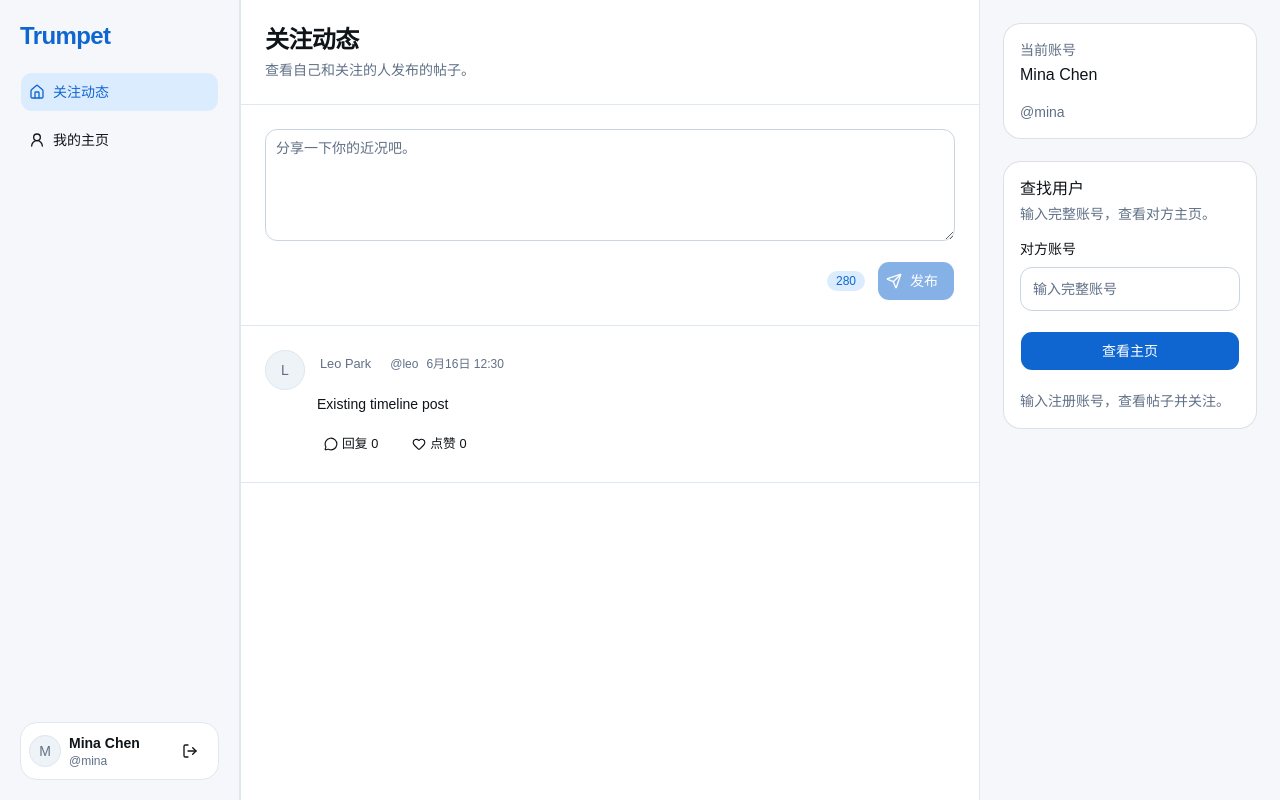
Test: App timeline interactions › likes and unlikes timeline posts in place
The width and height of the screenshot is (1280, 800).
Expected: the text "Existing timeline post" is shown, 317,396 -> 448,412
Click the button "点赞 0" at [441, 444], box 405,430 -> 478,458
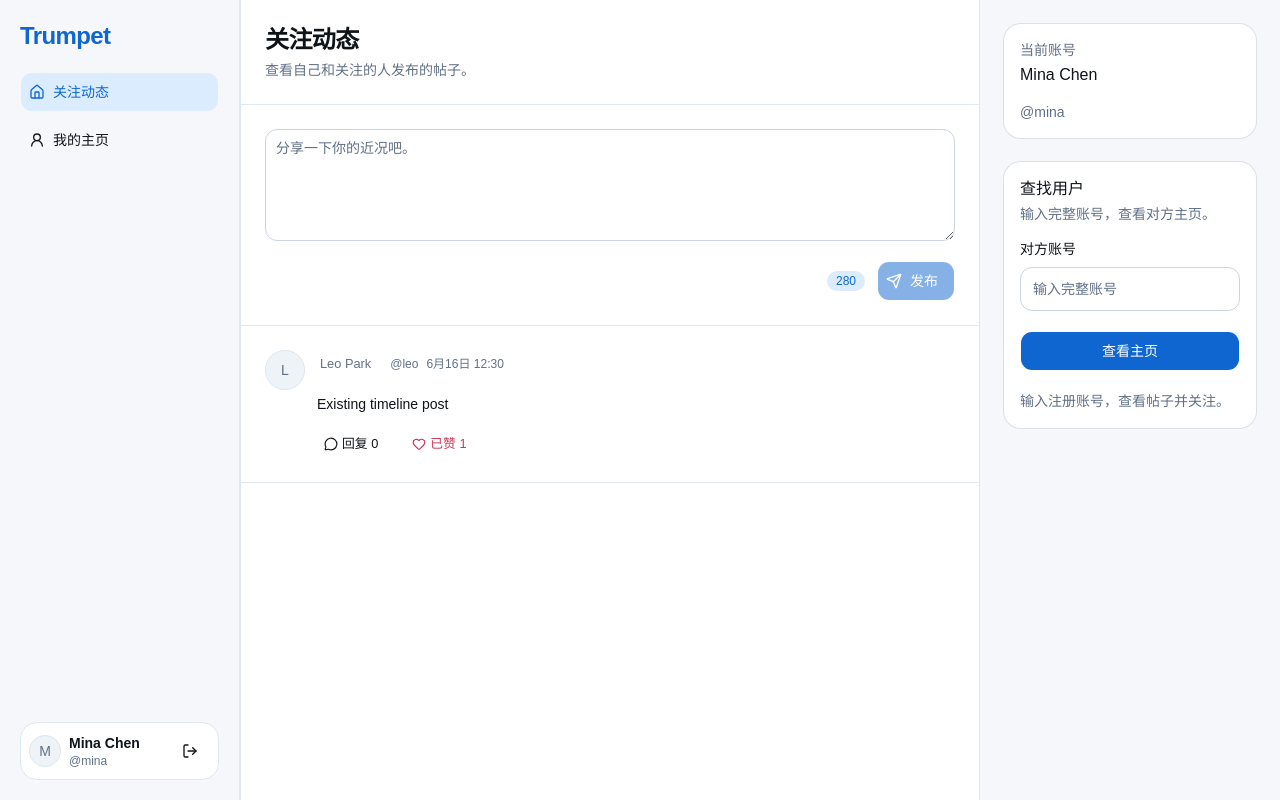
Now the button "已赞 1" is shown
Click the button "已赞 1" at [441, 444], box 405,430 -> 478,458
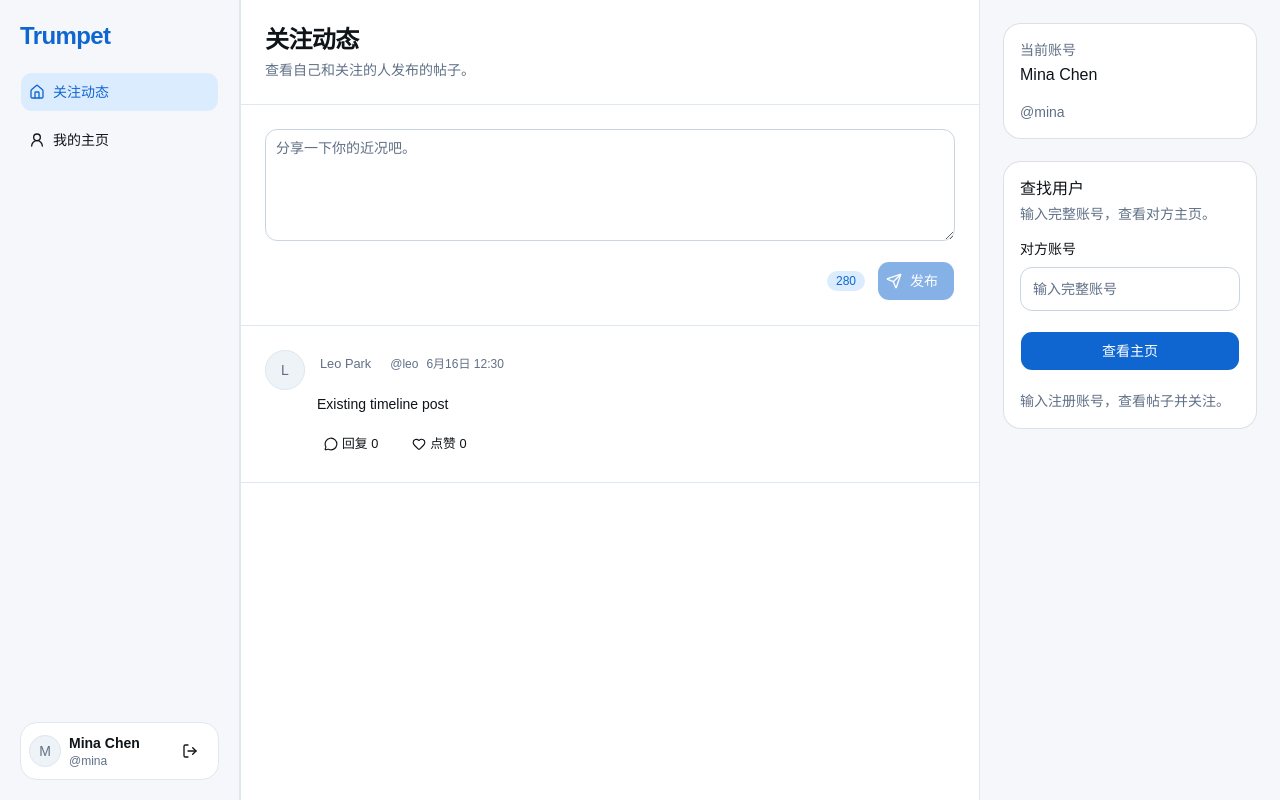
Now the button "点赞 0" is shown, box 405,430 -> 478,458
